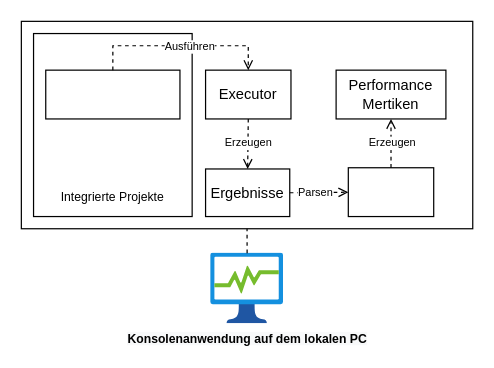
Some shapes in this 494 by 368 pixel diagram are drawn without their labels. The centre of each missing label's shape, as x and y in pixels:
Integriertes Projekt: (x=112, y=94)
Plotter: (x=390, y=192)
